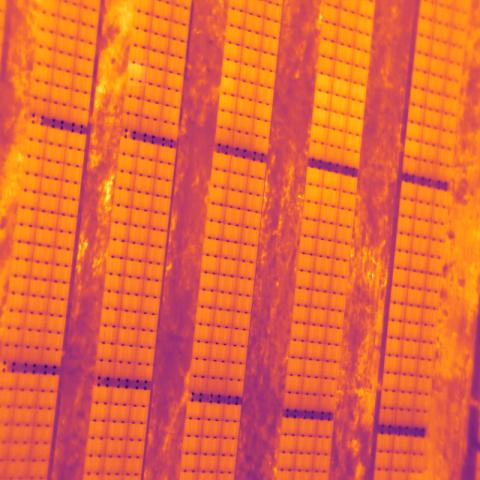fault: (128, 60, 148, 86)
